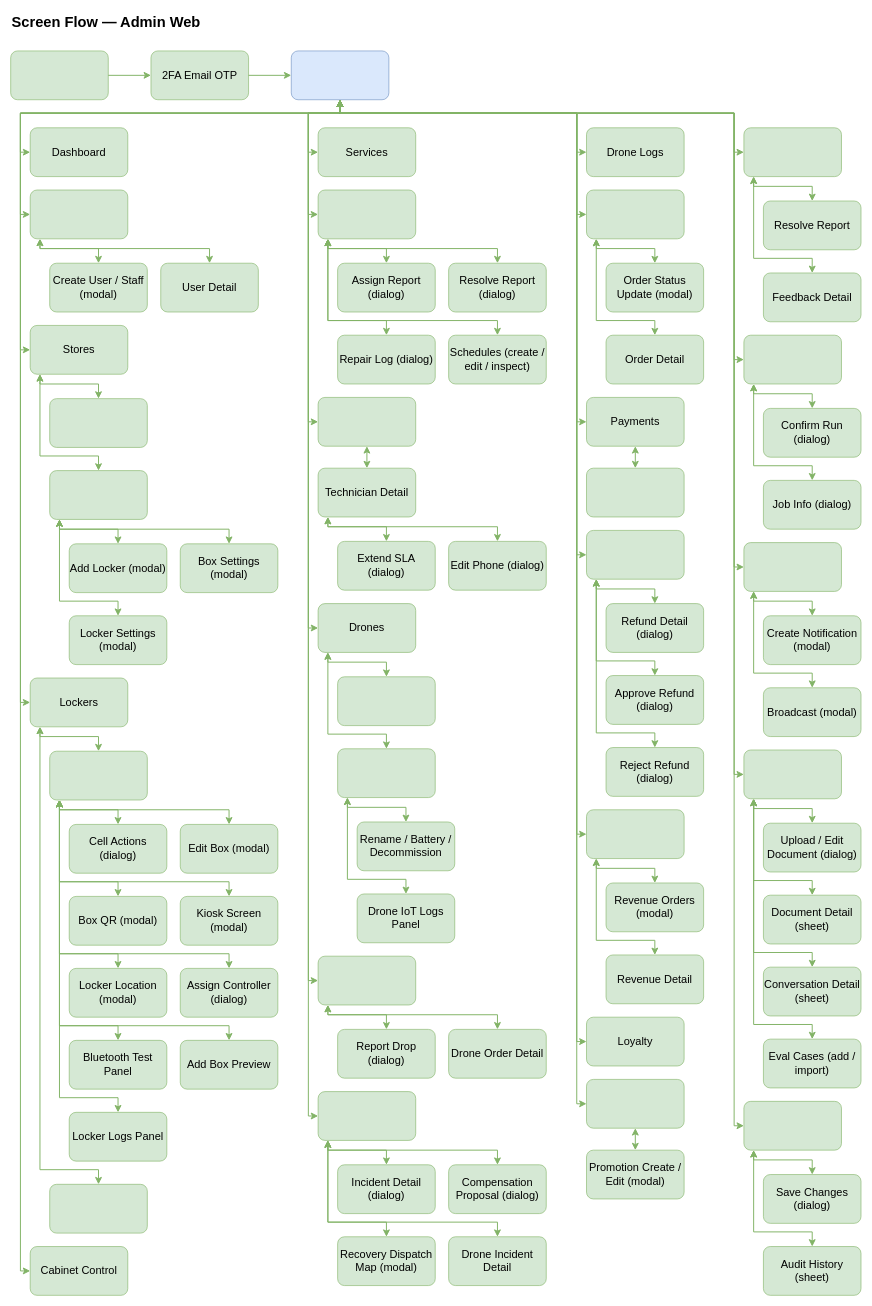
This 872x1306 diagram has some shape labels left out. Each missing label, with the centre of its shape:
"Add Drone (dialog)" goes at point (386, 701).
"Admin Login" goes at point (59, 75).
"Admin Sidebar Menu" goes at point (340, 75).
"Business Settings" goes at point (792, 1125).
"Drone Detail" goes at point (386, 773).
"Drone Incidents" goes at point (367, 1115).
"Drone Orders" goes at point (367, 980).
"Feedback" goes at point (792, 152).
"Knowledge Base" goes at point (792, 774).
"Locker Layout" goes at point (98, 775).
"Maintenance" goes at point (367, 214).
"Notifications" goes at point (792, 566).
"Open Box by QR" goes at point (98, 1208).
"Orders" goes at point (635, 214).
"Payment Detail (modal)" goes at point (635, 492).
"Promotions" goes at point (635, 1103).
"Refunds" goes at point (635, 554).
"Revenue" goes at point (635, 834).
"Scheduler" goes at point (792, 359).
"Store Create / Edit (modal)" goes at point (98, 422).
"Store Detail" goes at point (98, 494).
"Technicians" goes at point (367, 421).
"Users" goes at point (79, 214).
